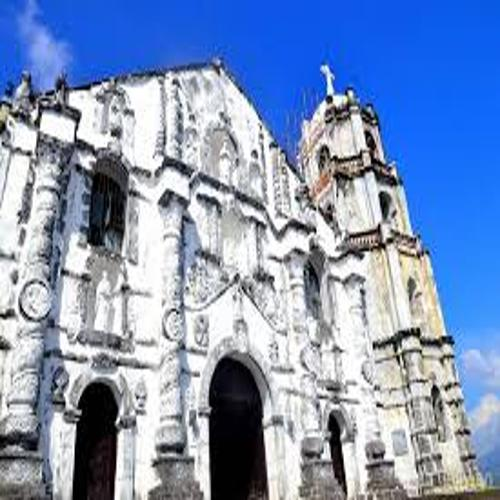Daraga Church: (4, 29, 488, 492)
